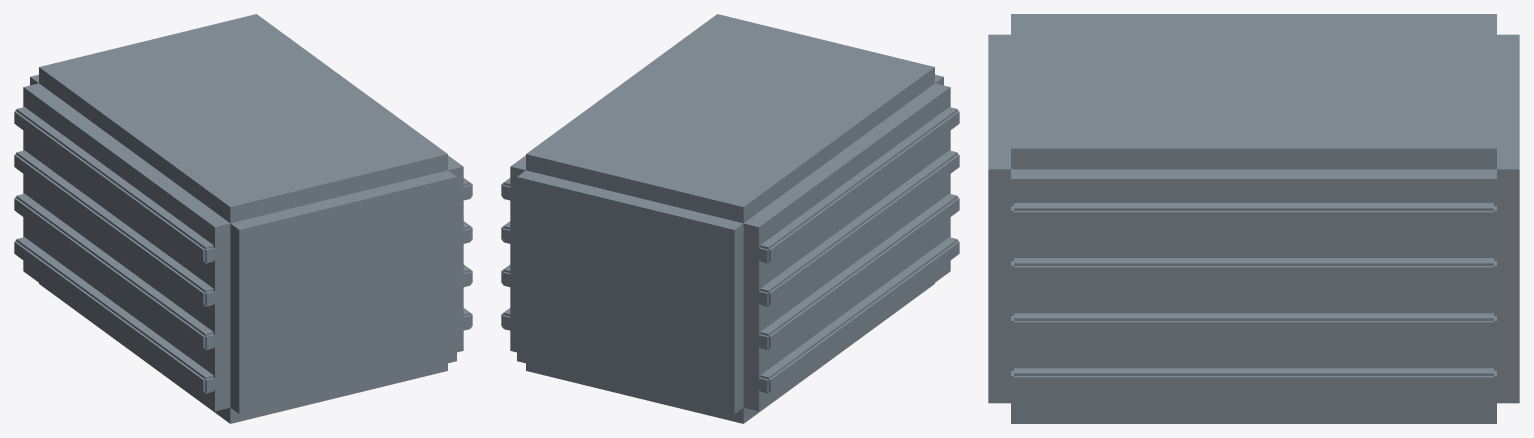
File: pd_laser_housing.glb
3 views of the same model, side by side, from view 1: azimuth 30°, elevation 25°; view 2: azimuth 150°, elevation 25°; view 3: azimuth 270°, elevation 25° (orthographic). The views are drawn at different scales.
Parts seen in each view (by area): view 1: pd_laser_housing; view 2: pd_laser_housing; view 3: pd_laser_housing.
Boxes of the visible parts, x1=… form: pd_laser_housing: x1=14, y1=14, x2=472, y2=423; pd_laser_housing: x1=501, y1=14, x2=959, y2=423; pd_laser_housing: x1=988, y1=14, x2=1519, y2=423.
Bounding box in the file's own units: 0.26 × 0.2 × 0.35.
